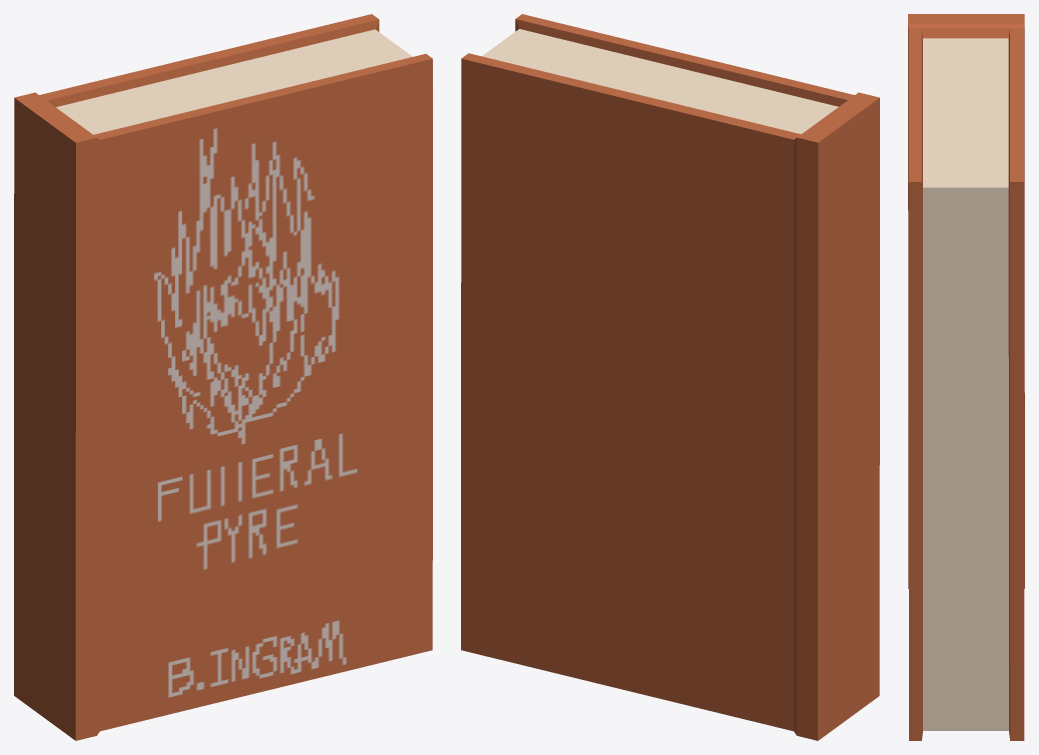
Rendered from funeralpyre.fbx.
The picture shows the model from 3 angles, left to right: view 1: azimuth 30°, elevation 25°; view 2: azimuth 150°, elevation 25°; view 3: azimuth 270°, elevation 25°; orthographic projection. The views are drawn at different scales.
Visible parts, largest first — view 1: Cube.012; view 2: Cube.012; view 3: Cube.012.
Boxes of the visible parts, x1=… form: Cube.012: x1=14, y1=14, x2=432, y2=740; Cube.012: x1=461, y1=14, x2=879, y2=740; Cube.012: x1=908, y1=14, x2=1024, y2=740.
Bounding box in the file's own units: 22.87 × 36.59 × 6.85.
